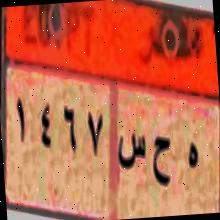1: (14, 92, 30, 150)
4: (38, 103, 54, 161)
6: (62, 102, 79, 157)
7: (85, 106, 107, 160)
7aa: (152, 131, 174, 201)
haa: (182, 132, 202, 182)
seen: (116, 128, 148, 178)
